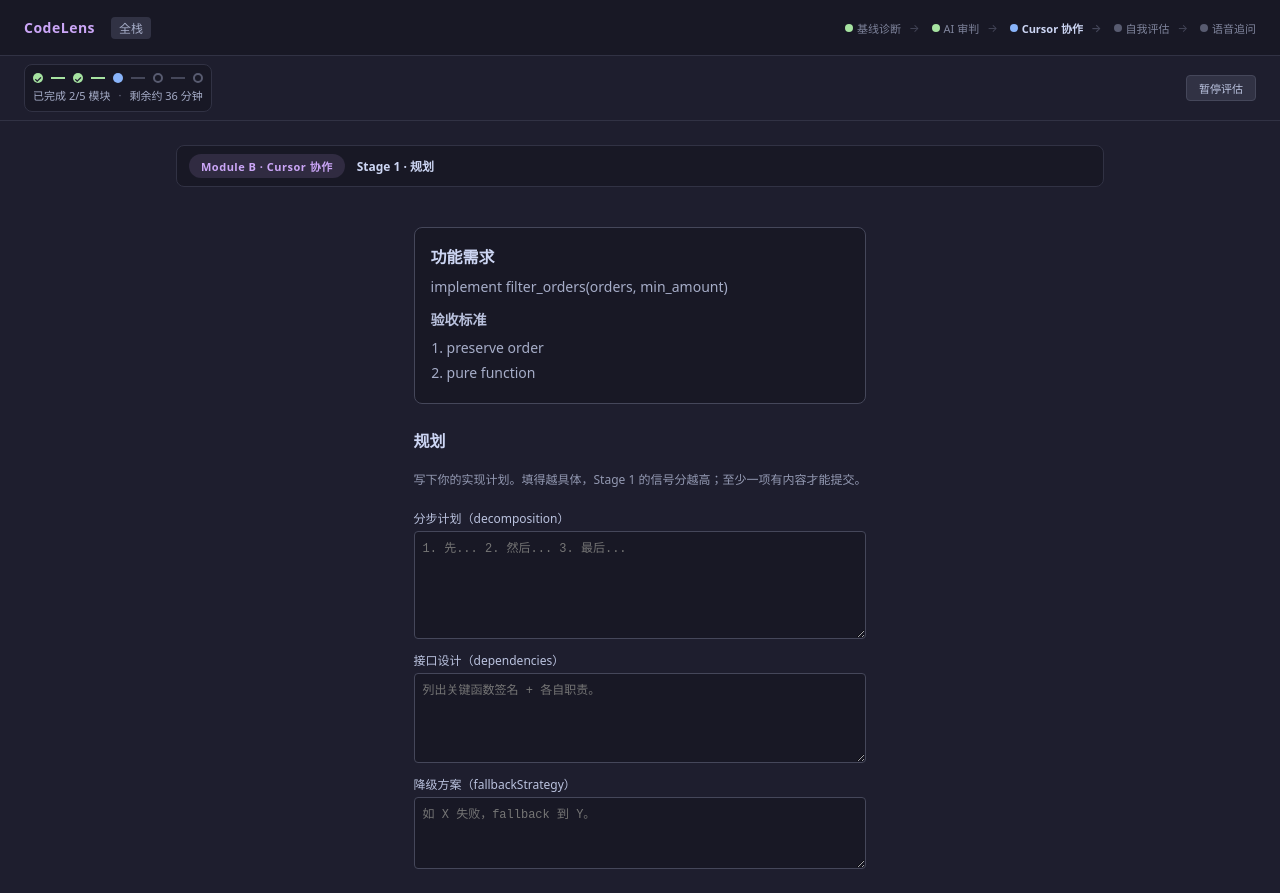
Scenario: ModuleBPage · Stage 2 (execution) › finish button advances to Stage 3 (standards)
In the text box with test id "mb-planning-decomposition": (640, 585) x1=414 y1=531 x2=866 y2=639, type "plan"
(page scrolled)
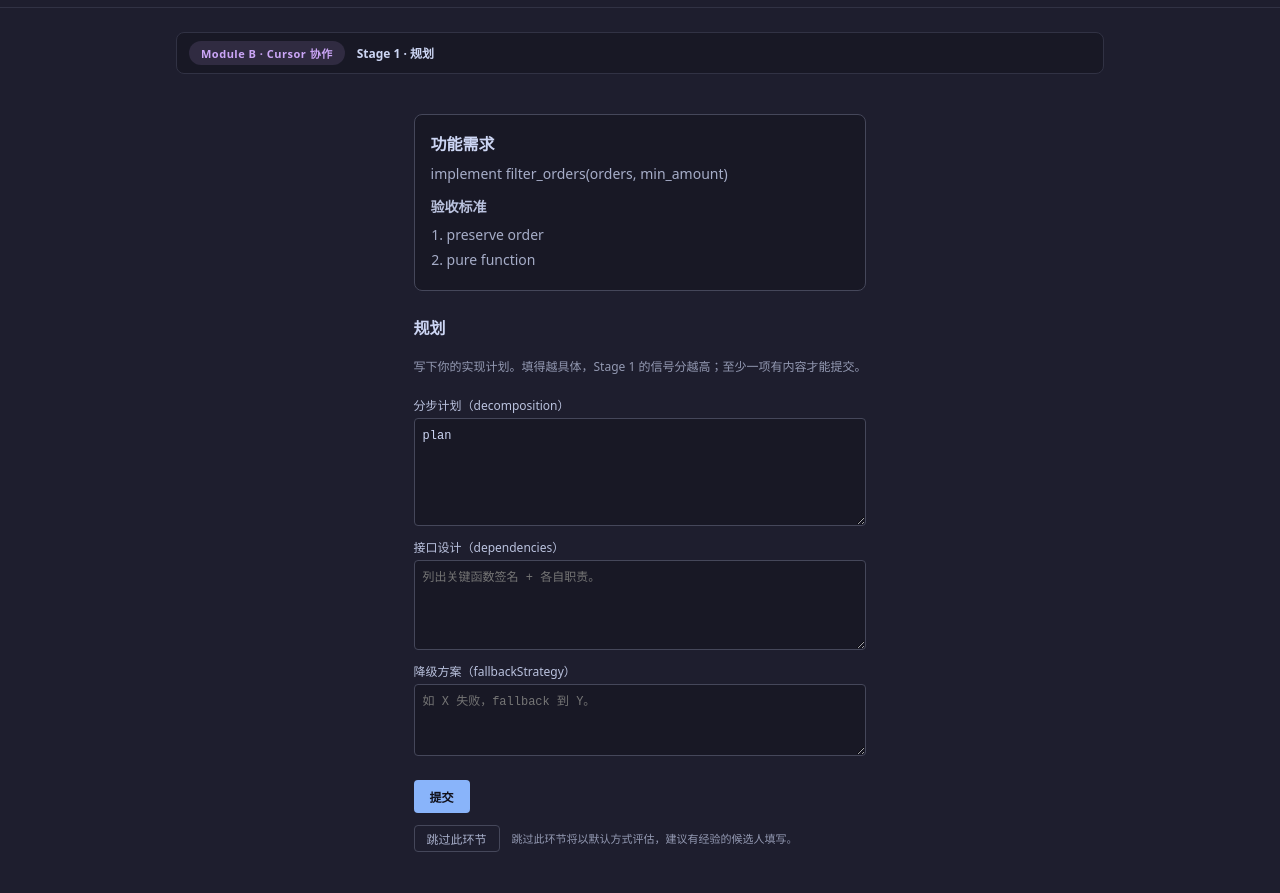
Click the button with test id "mb-planning-submit": (442, 796) x1=414 y1=780 x2=470 y2=813
(page scrolled)
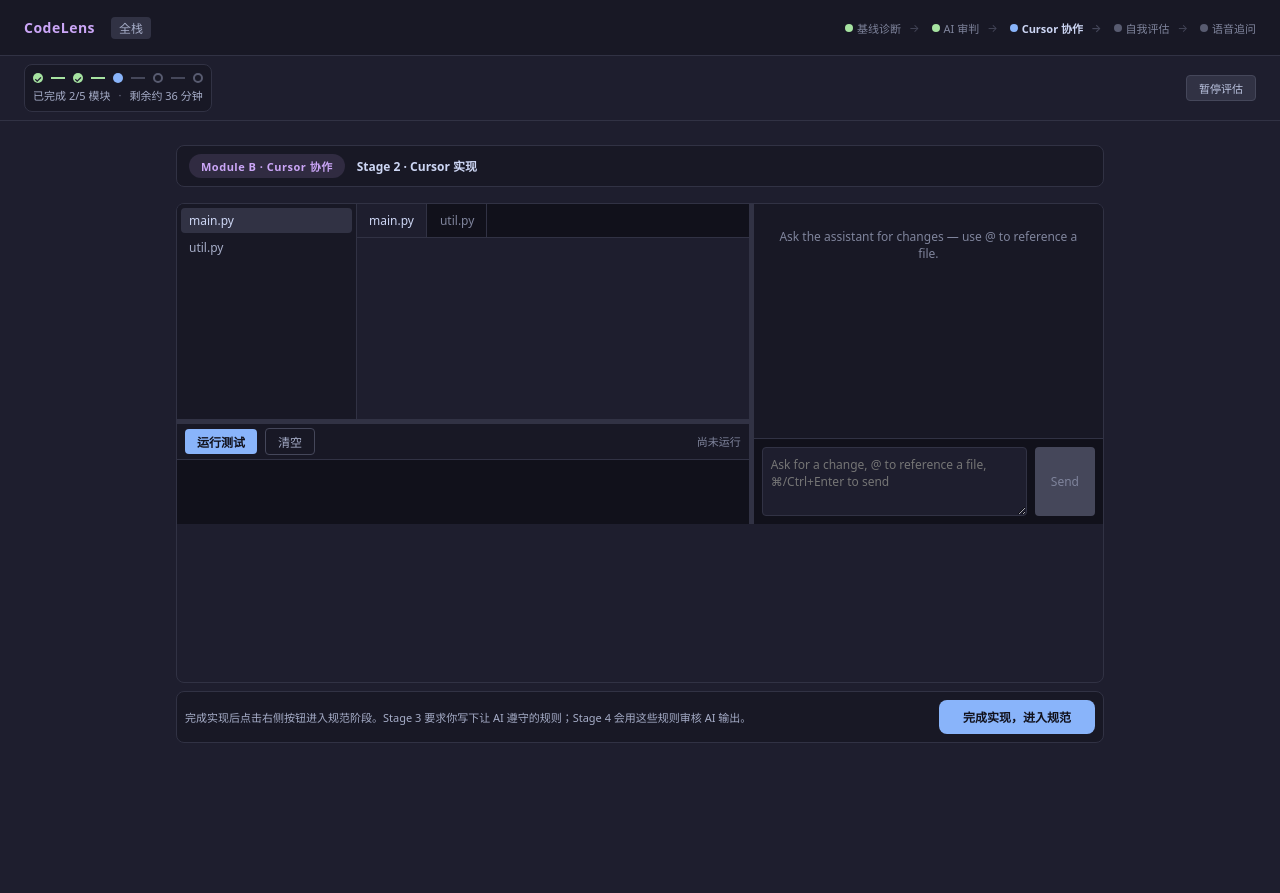
Now the element with test id "mb-execution-wrap" is shown, box x1=176 y1=203 x2=1104 y2=743
Click the button with test id "mb-execution-finish": (1017, 717) x1=939 y1=700 x2=1095 y2=734
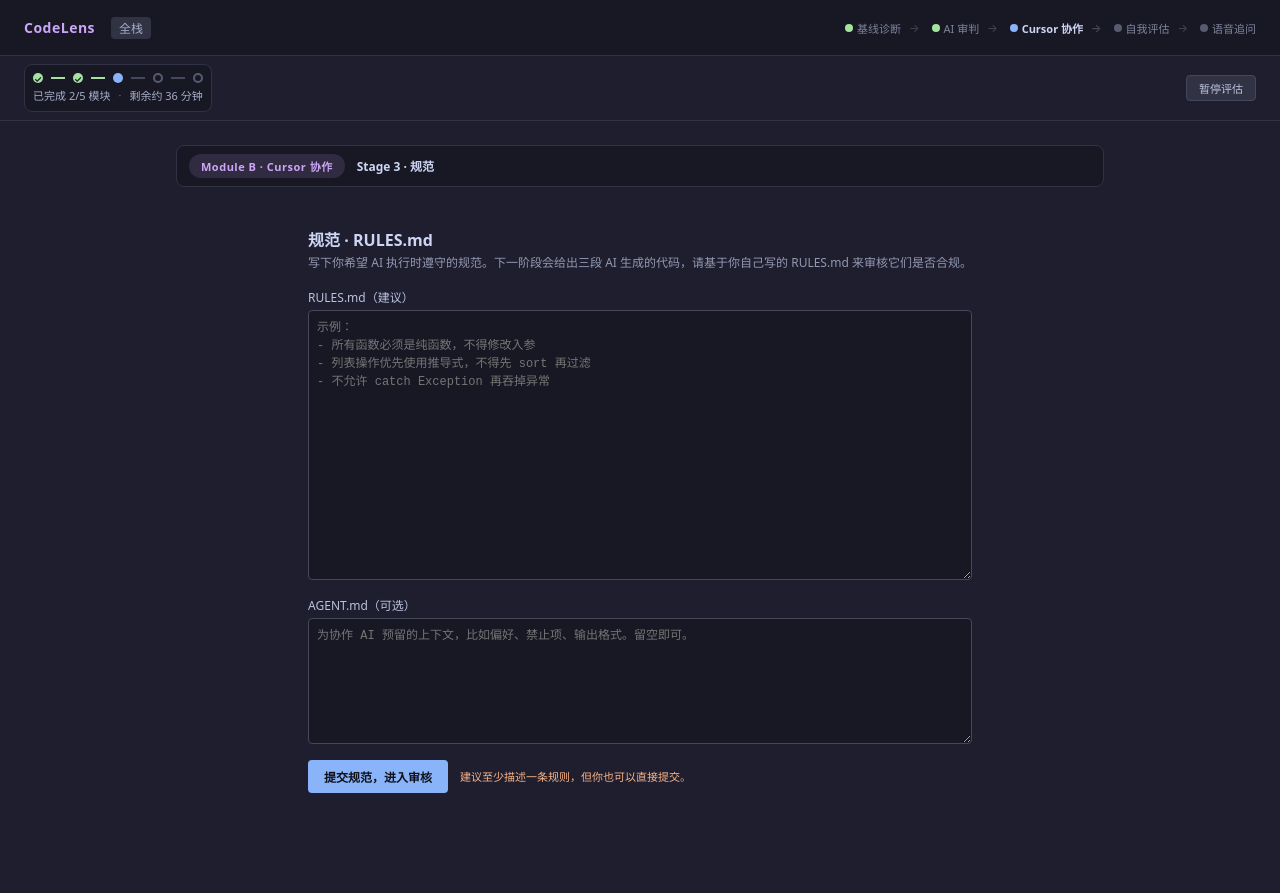
Now the text with test id "mb-stage-label" shows "Stage 3", box x1=357 y1=158 x2=434 y2=175
Now the element with test id "mb-standards-root" is shown, box x1=284 y1=203 x2=996 y2=817
